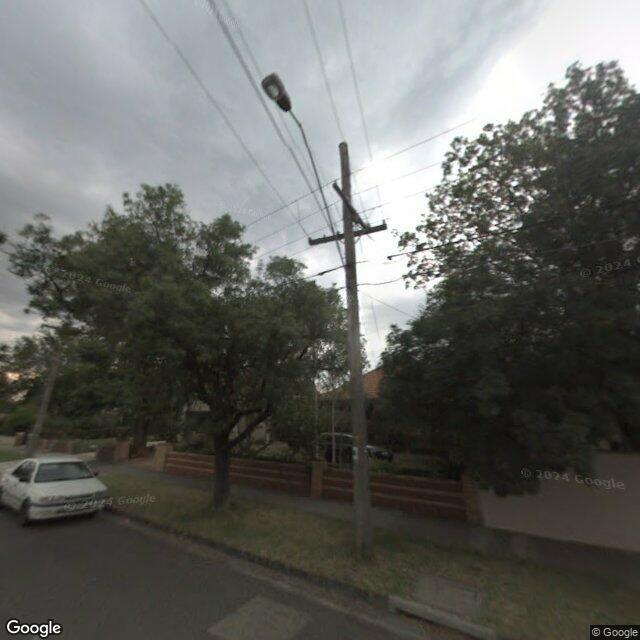crossarm: (308, 224, 388, 245), (332, 183, 367, 229)
streetlight: (260, 72, 348, 273)
timber-pole: (338, 142, 374, 560), (23, 321, 71, 458)
